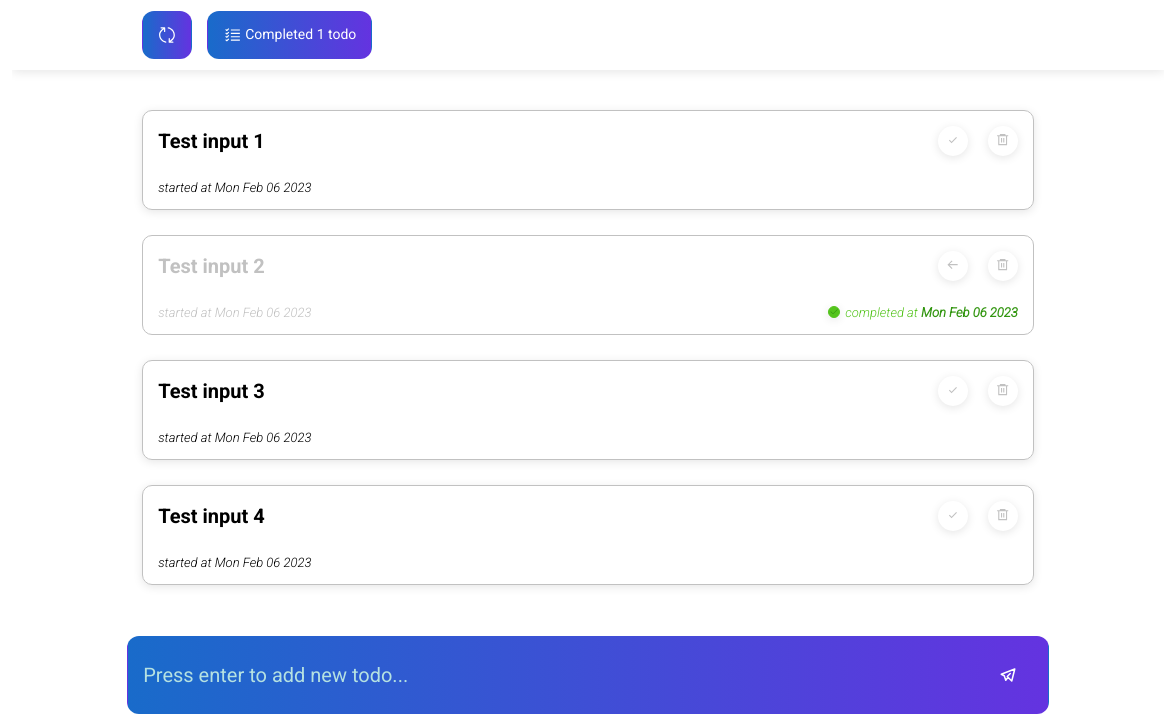
Test case: Events › Check events <Todo /> component › It should click on "Clear uncompleted todos" button
Click the button with test id "clear completed": x=290, y=35 [207,11,372,59]
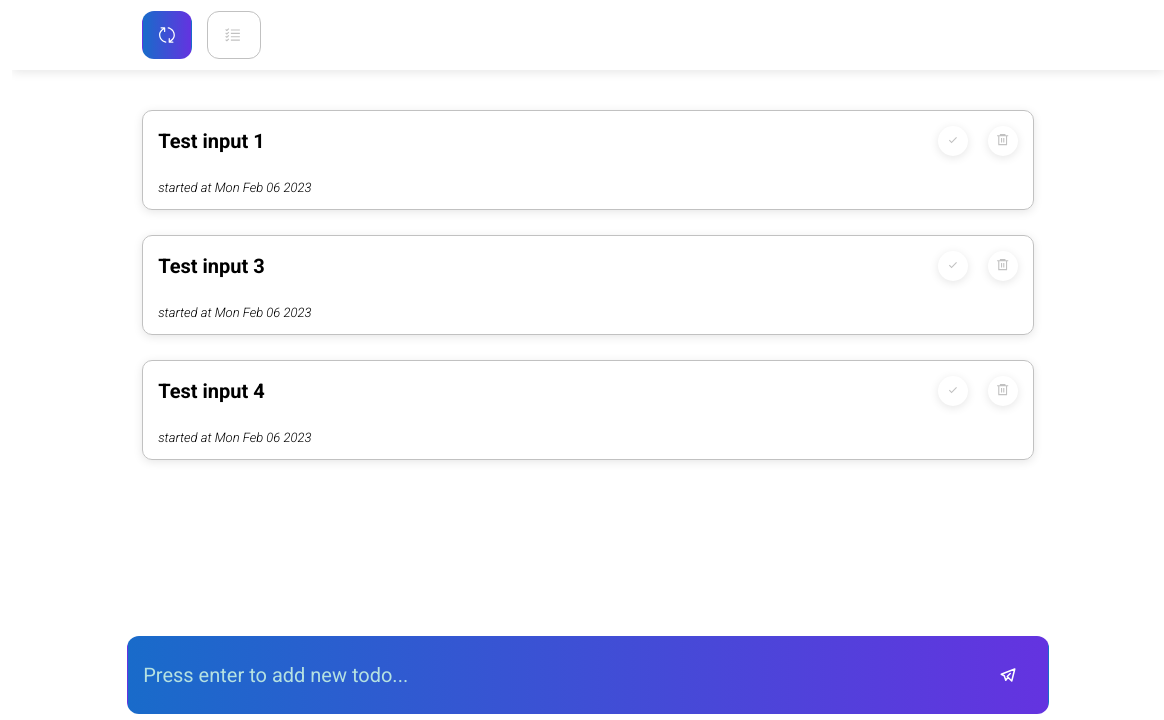
Check: no elements with test id "completed-todo" are shown
